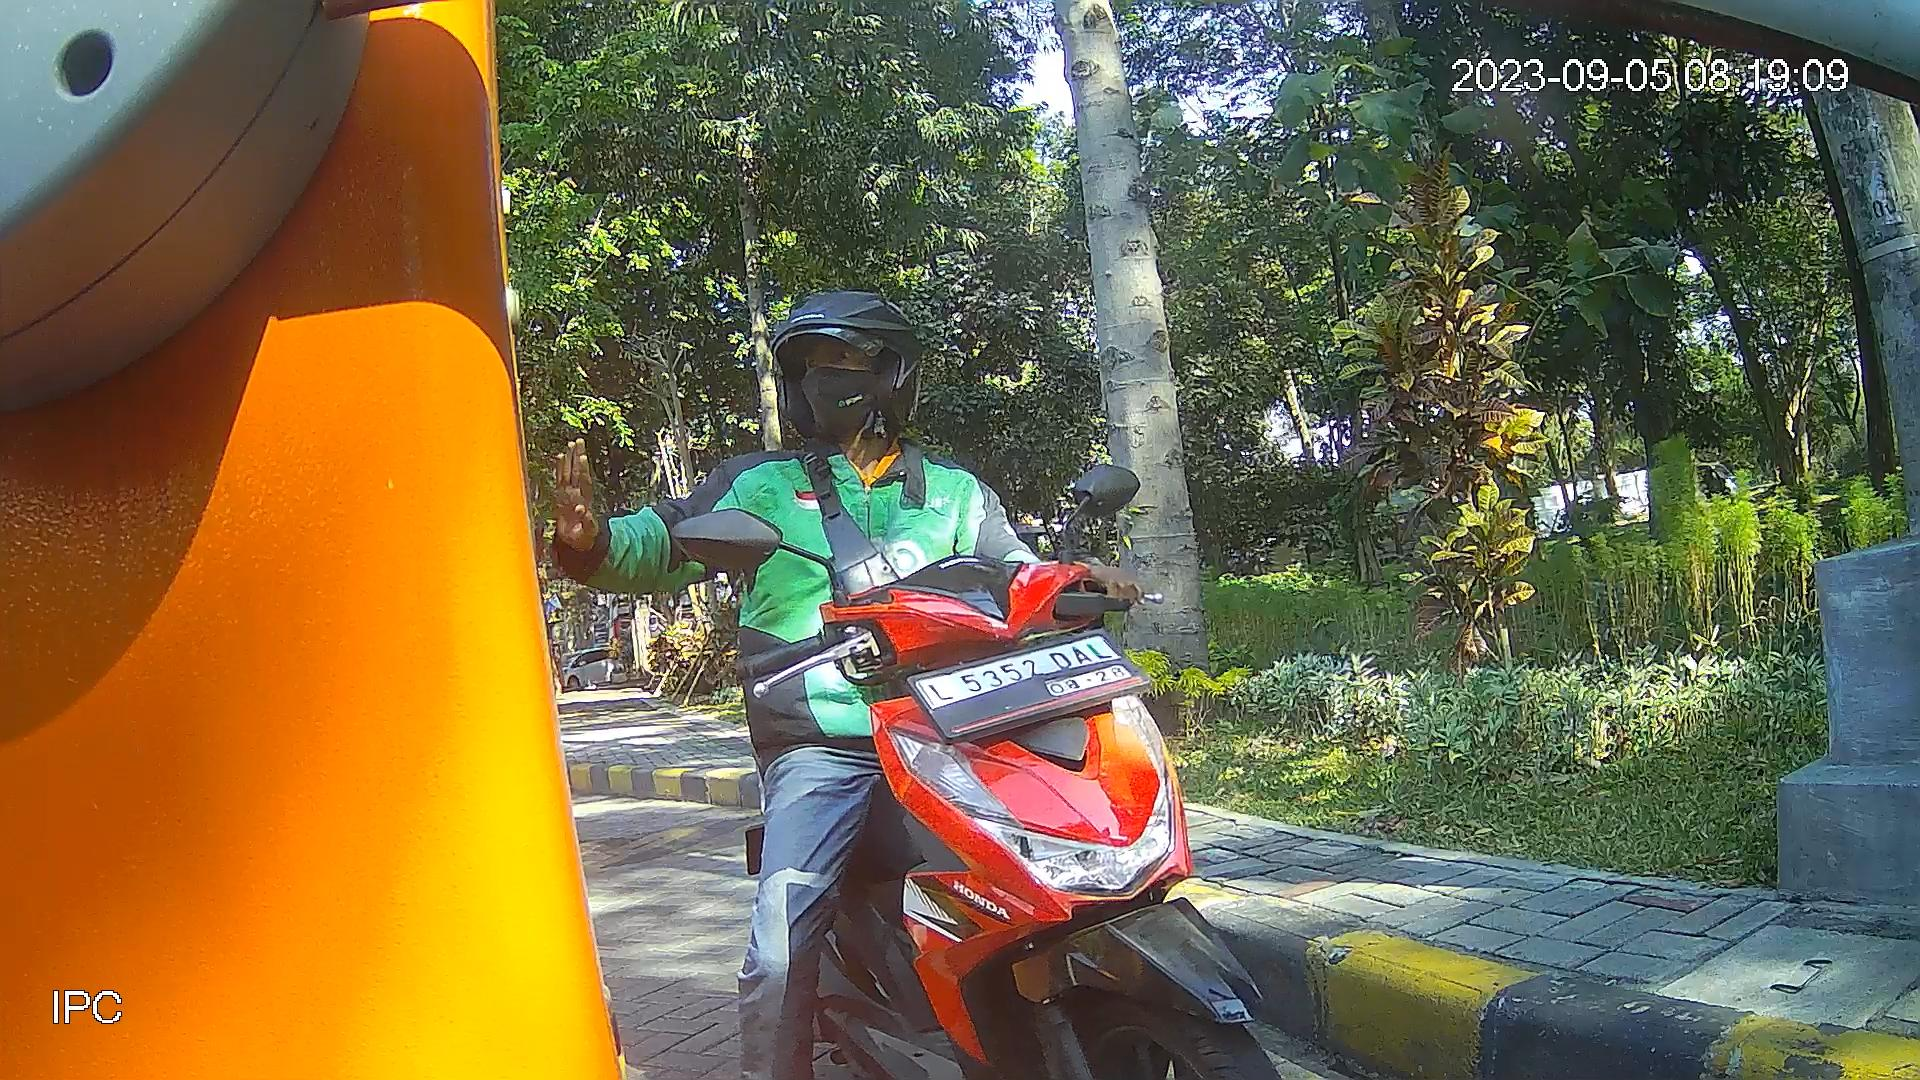plat: (905, 629, 1154, 738)
